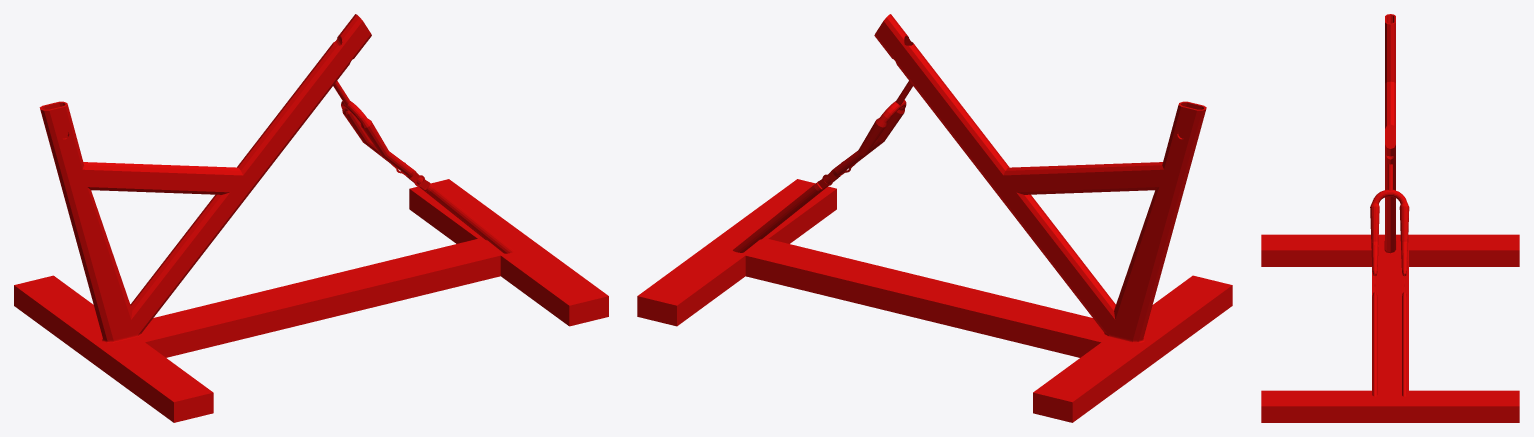
File: bikeBody.glb
The picture shows the model from 3 angles, left to right: view 1: azimuth 30°, elevation 25°; view 2: azimuth 150°, elevation 25°; view 3: azimuth 270°, elevation 25°; orthographic projection. The views are drawn at different scales.
Visible parts, largest first — view 1: body; view 2: body; view 3: body.
Boxes of the visible parts, x1,y1,x2,y2 form: body: [14, 14, 608, 422]; body: [637, 14, 1232, 422]; body: [1261, 14, 1519, 422].
Bounding box in the file's own units: 4.28 × 2.39 × 2.43.
